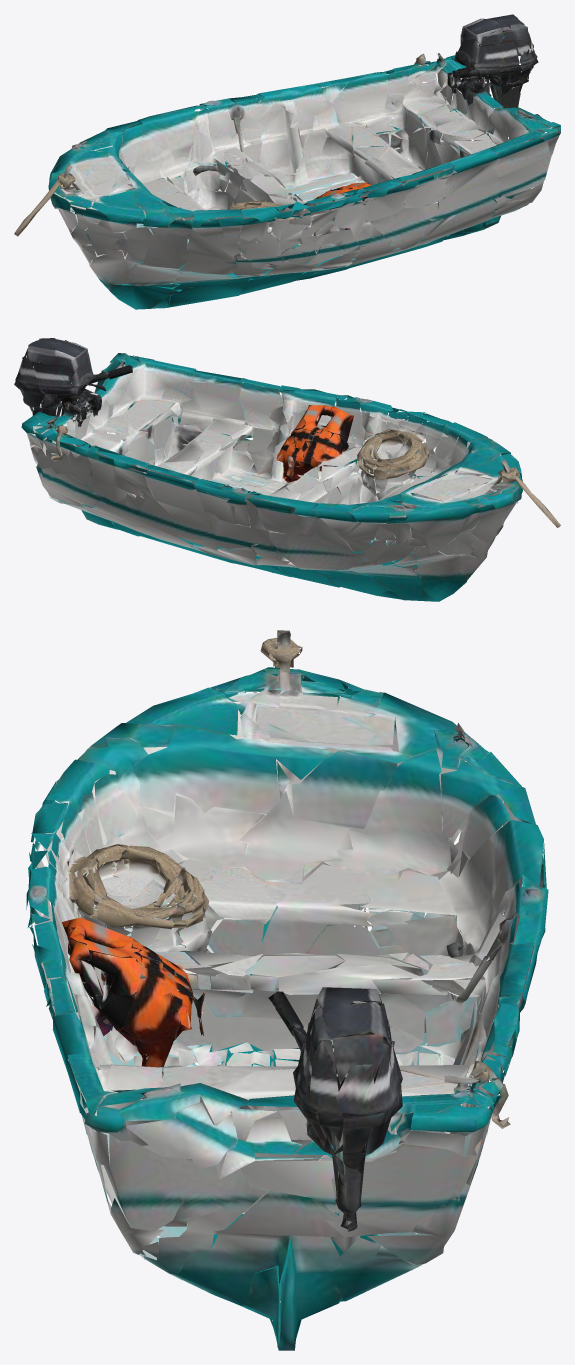
Rendered from tender.glb.
3 views of the same model, one above another, from view 1: azimuth 30°, elevation 25°; view 2: azimuth 150°, elevation 25°; view 3: azimuth 270°, elevation 25° (orthographic). The views are drawn at different scales.
Parts seen in each view (by area): view 1: Mesh_0; view 2: Mesh_0; view 3: Mesh_0.
Boxes of the visible parts, x1=… form: Mesh_0: x1=14, y1=14, x2=560, y2=309; Mesh_0: x1=14, y1=338, x2=560, y2=601; Mesh_0: x1=26, y1=630, x2=548, y2=1350.
Size of the model in its own units: 1.9 by 0.6648 by 0.8219.
1 material, 1 textured.
